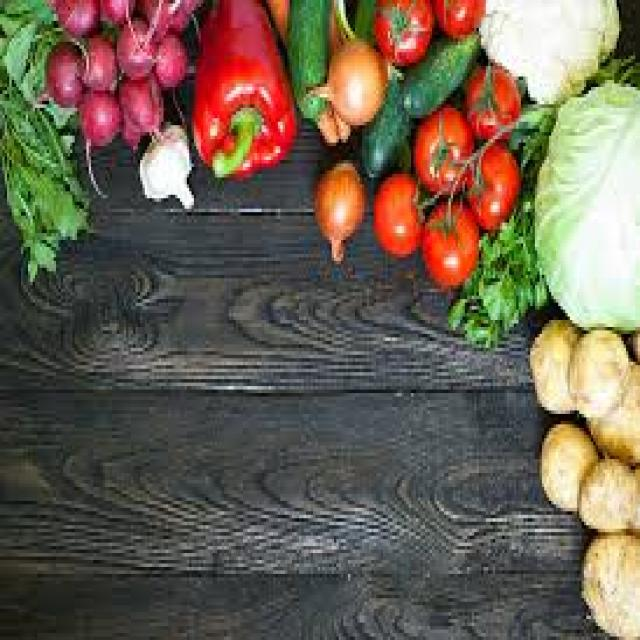organic waste: (530, 76, 638, 324), (0, 69, 86, 278), (192, 0, 292, 174), (446, 181, 544, 341), (526, 49, 638, 177), (476, 0, 616, 97), (0, 0, 75, 153), (266, 0, 336, 139), (294, 0, 348, 136), (304, 35, 386, 122), (399, 31, 479, 115), (579, 528, 638, 636), (537, 414, 596, 515), (409, 101, 469, 198), (563, 323, 626, 414), (285, 0, 331, 118), (586, 358, 638, 459), (362, 66, 409, 177), (313, 160, 364, 261), (526, 313, 579, 410), (135, 118, 194, 205), (574, 452, 638, 532), (467, 139, 519, 233), (369, 170, 425, 254), (421, 198, 476, 282), (462, 59, 518, 139), (369, 0, 430, 63), (32, 38, 82, 108), (117, 73, 166, 132), (77, 84, 115, 156), (115, 14, 154, 76), (46, 0, 96, 42), (149, 32, 187, 84), (430, 0, 483, 35), (82, 35, 114, 90), (334, 0, 369, 38), (117, 108, 142, 146), (142, 0, 170, 31), (170, 0, 196, 31), (98, 0, 131, 21), (628, 327, 638, 355)
